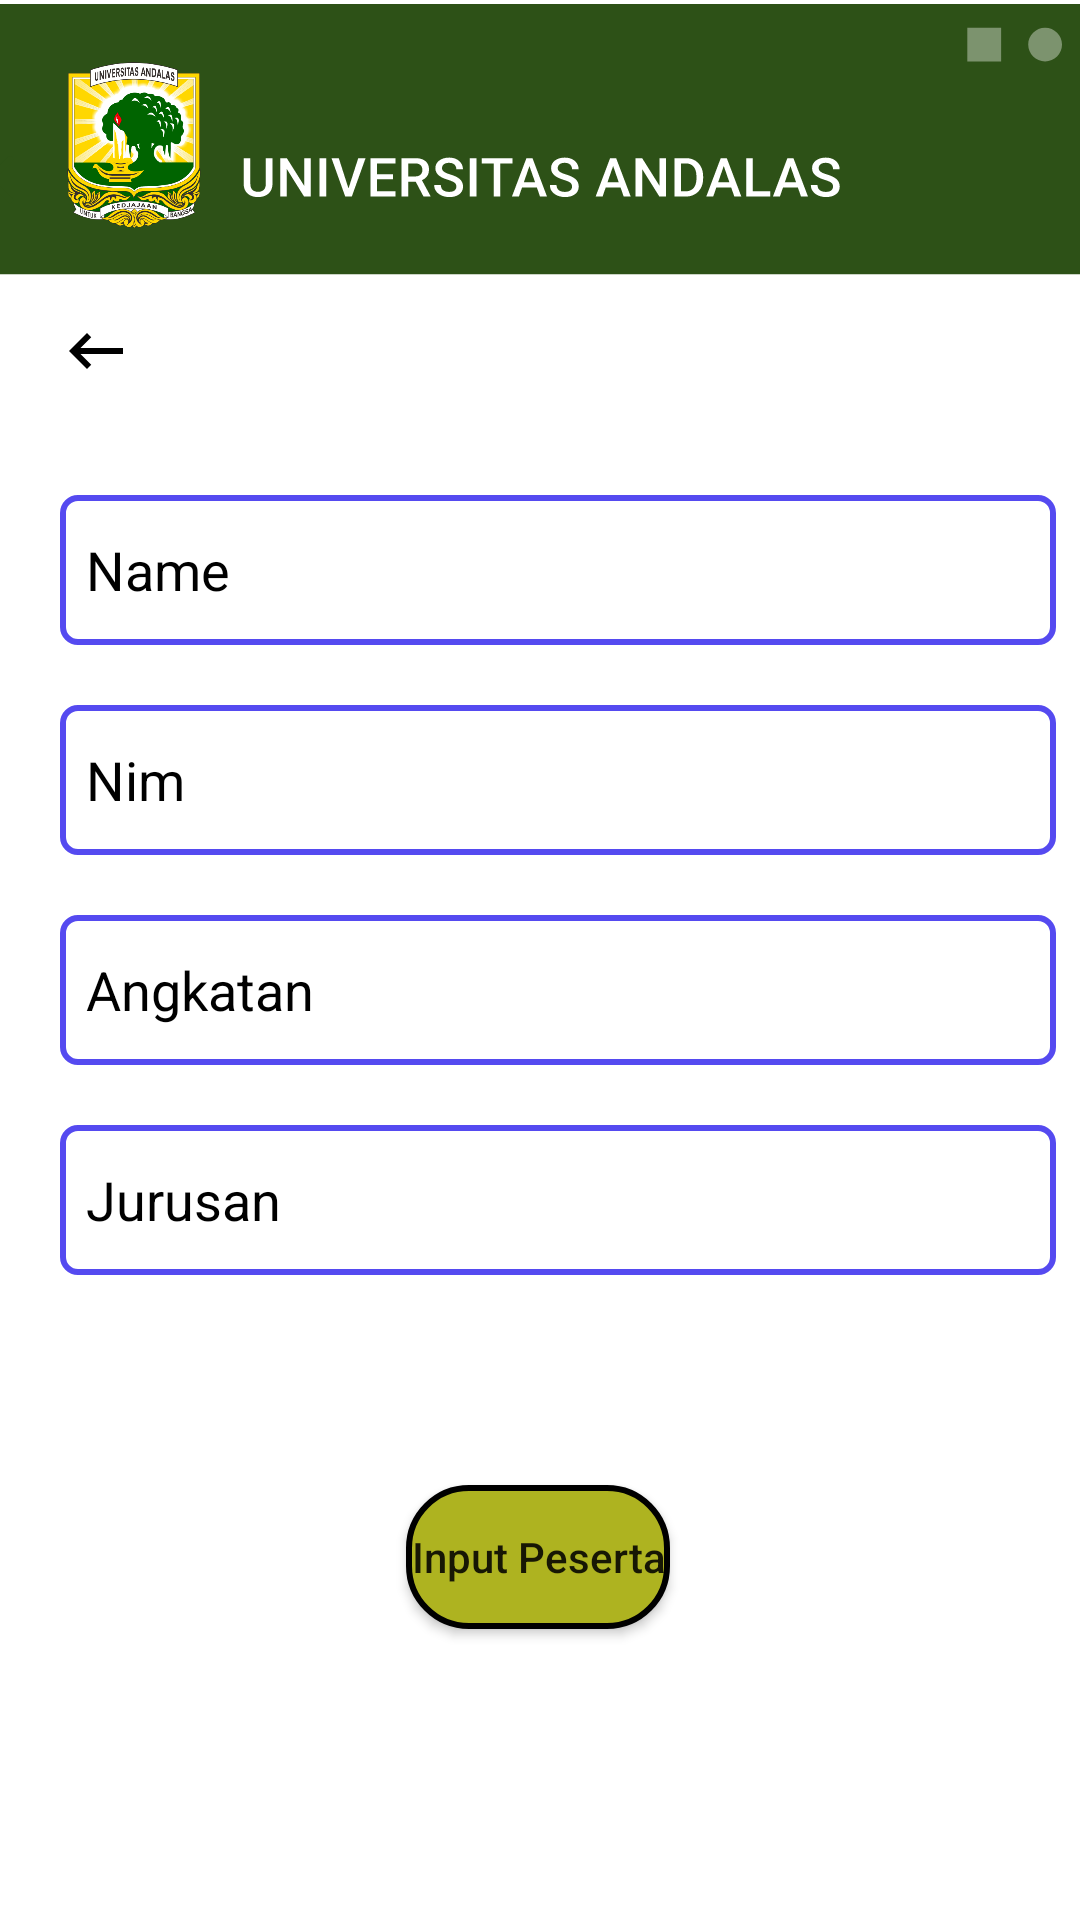

Icon click points for this 1080×1920 phone screenshot, format point (x, y):
back: point (96, 351)
